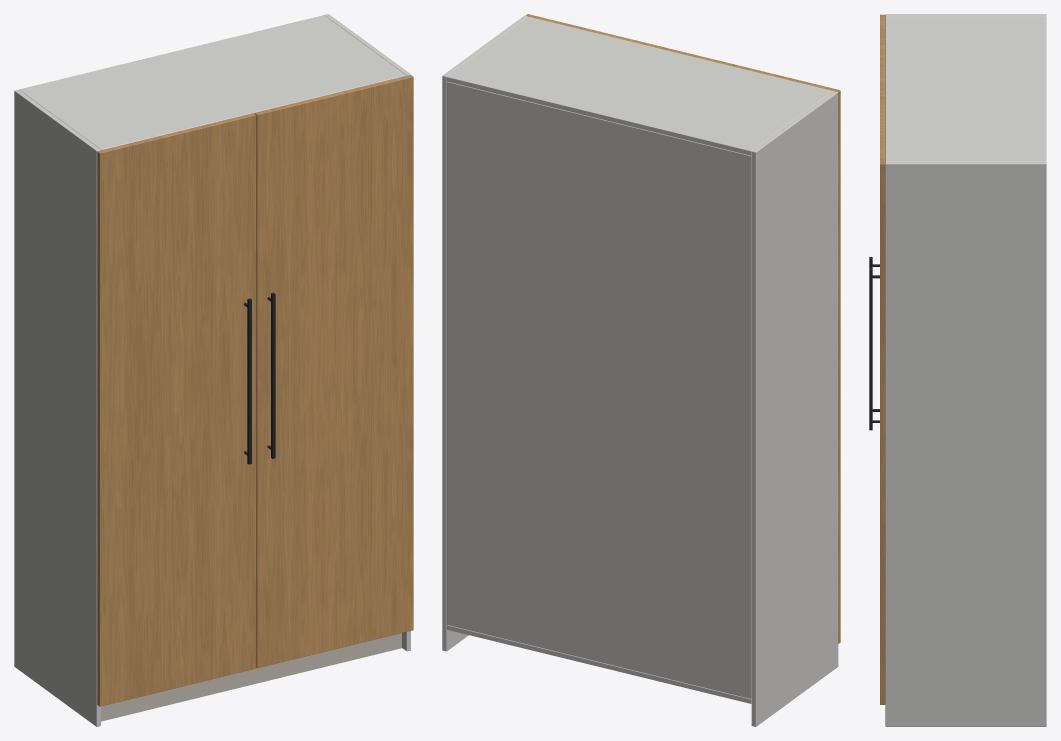
Rendered from wardrobe.glb.
3 renders of one model, left to right at view 1: azimuth 30°, elevation 25°; view 2: azimuth 150°, elevation 25°; view 3: azimuth 270°, elevation 25°, orthographic. The views are drawn at different scales.
Parts seen in each view (by area): view 1: wardrobe_door_l, wardrobe_door_r, wardrobe_carcass, wardrobe_plinth, wardrobe_handle_l, wardrobe_handle_r; view 2: wardrobe_carcass, wardrobe_door_l; view 3: wardrobe_carcass, wardrobe_door_r, wardrobe_handle_r, wardrobe_door_l.
Boxes of the visible parts, bbox=[...] form: wardrobe_door_l: bbox=[97, 113, 256, 706]; wardrobe_door_r: bbox=[254, 75, 413, 668]; wardrobe_carcass: bbox=[14, 14, 410, 726]; wardrobe_plinth: bbox=[101, 633, 401, 721]; wardrobe_handle_l: bbox=[244, 298, 251, 464]; wardrobe_handle_r: bbox=[267, 292, 275, 458]; wardrobe_carcass: bbox=[442, 15, 838, 726]; wardrobe_door_l: bbox=[683, 52, 840, 643]; wardrobe_carcass: bbox=[885, 14, 1046, 726]; wardrobe_door_r: bbox=[880, 89, 885, 704]; wardrobe_handle_r: bbox=[869, 268, 879, 430]; wardrobe_door_l: bbox=[880, 14, 885, 89].
Bounding box in the file's own units: 1.2 × 2.1 × 0.6.
4 materials, 1 textured.
